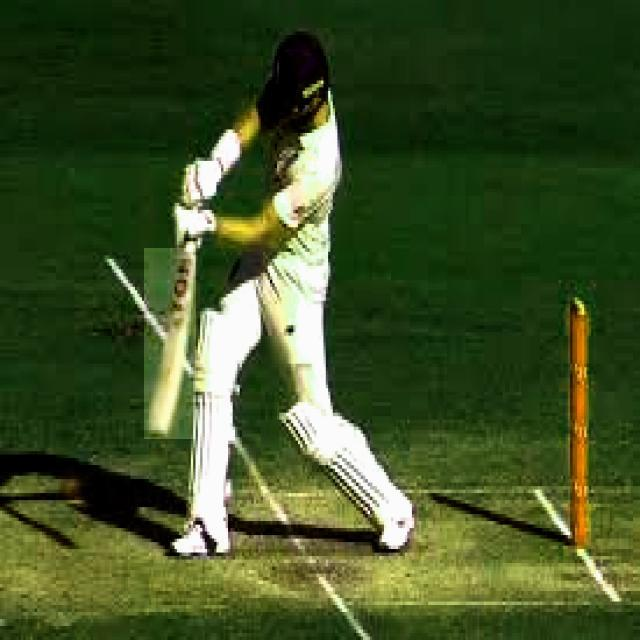bat: (145, 248, 190, 433)
toe: (145, 418, 174, 440)
